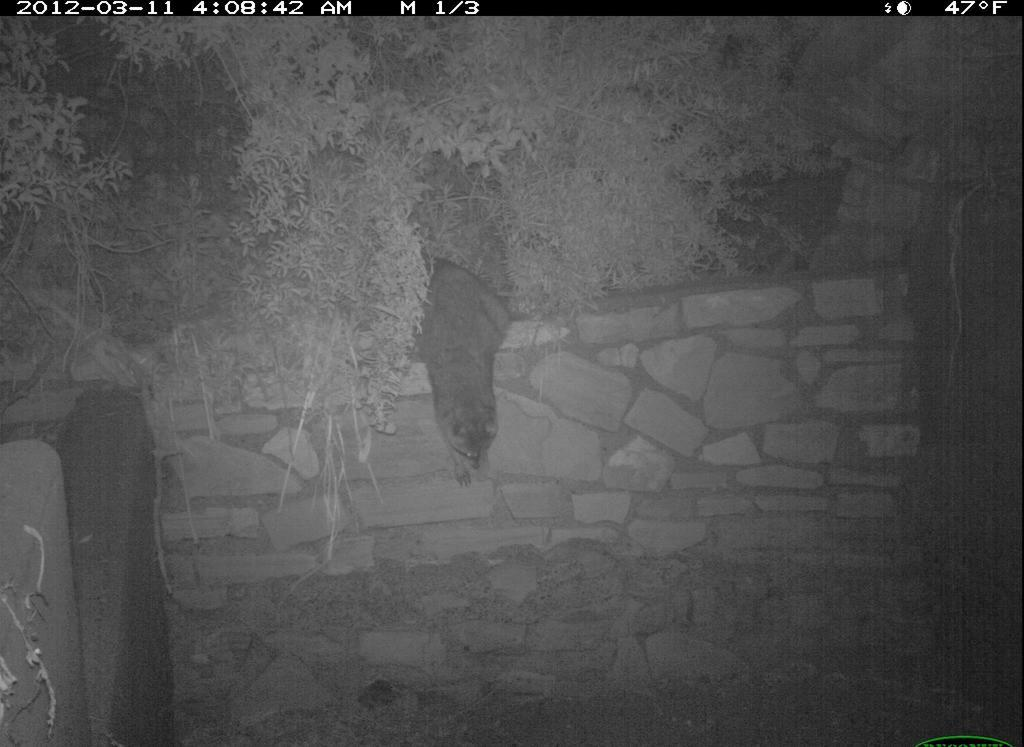raccoon: (404, 245, 545, 516)
